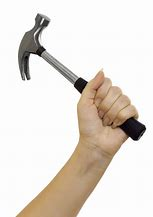hammer: (15, 11, 148, 143)
